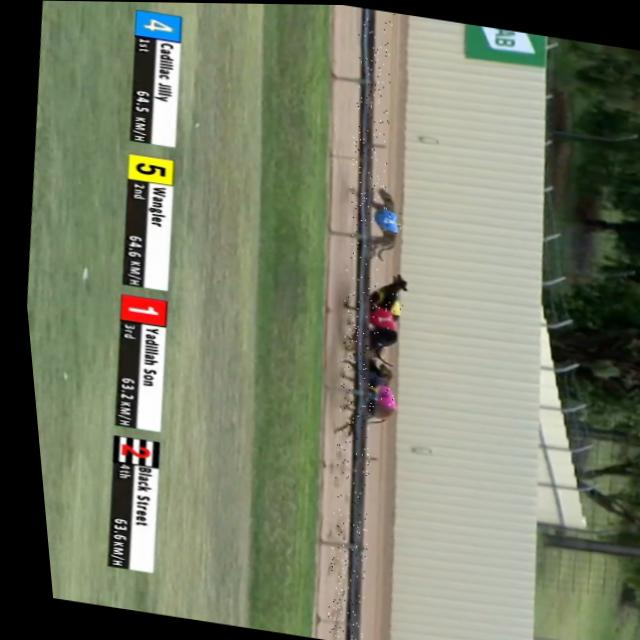dog_eight: (368, 384, 388, 408)
dog_five: (363, 289, 399, 315)
dog_four: (367, 205, 398, 234)
dog_one: (361, 307, 388, 330)
dog_seven: (355, 374, 376, 397)
rail: (333, 6, 373, 640)
